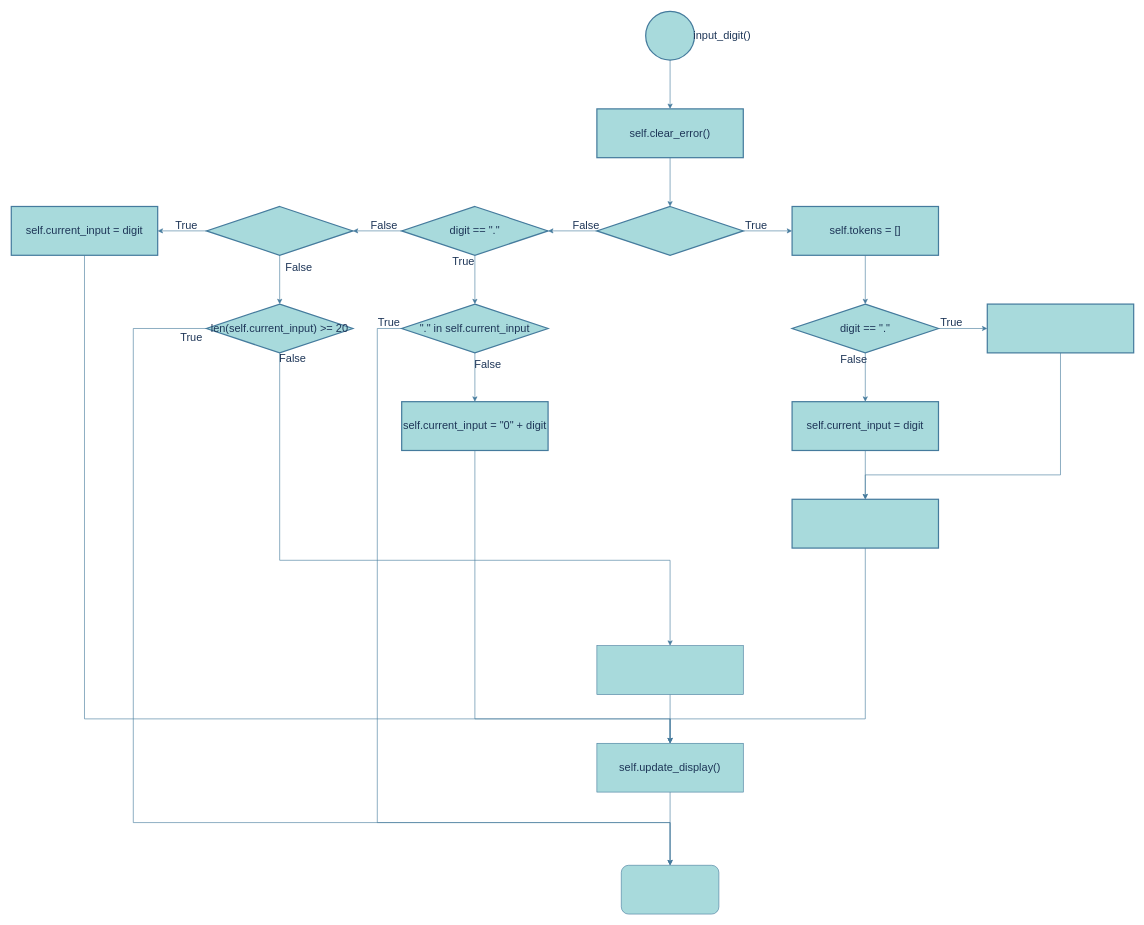
Image size: 1144x925. Some labels were removed from this diagram. Here are the shapes that lost their labels. From the top down, the box of each, then its label:
(206, 206, 353, 256): self.current_input == "0"
(596, 206, 744, 256): self.just_calculated
(986, 303, 1134, 353): self.current_input = "0."
(791, 498, 939, 548): self.just_calculated = False
(596, 645, 743, 694): self.current_input += digit
